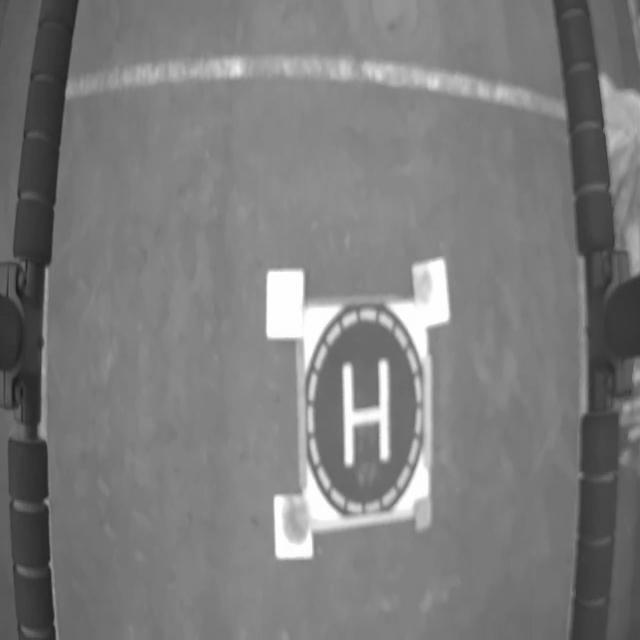Helipad: (342, 356, 390, 468)
